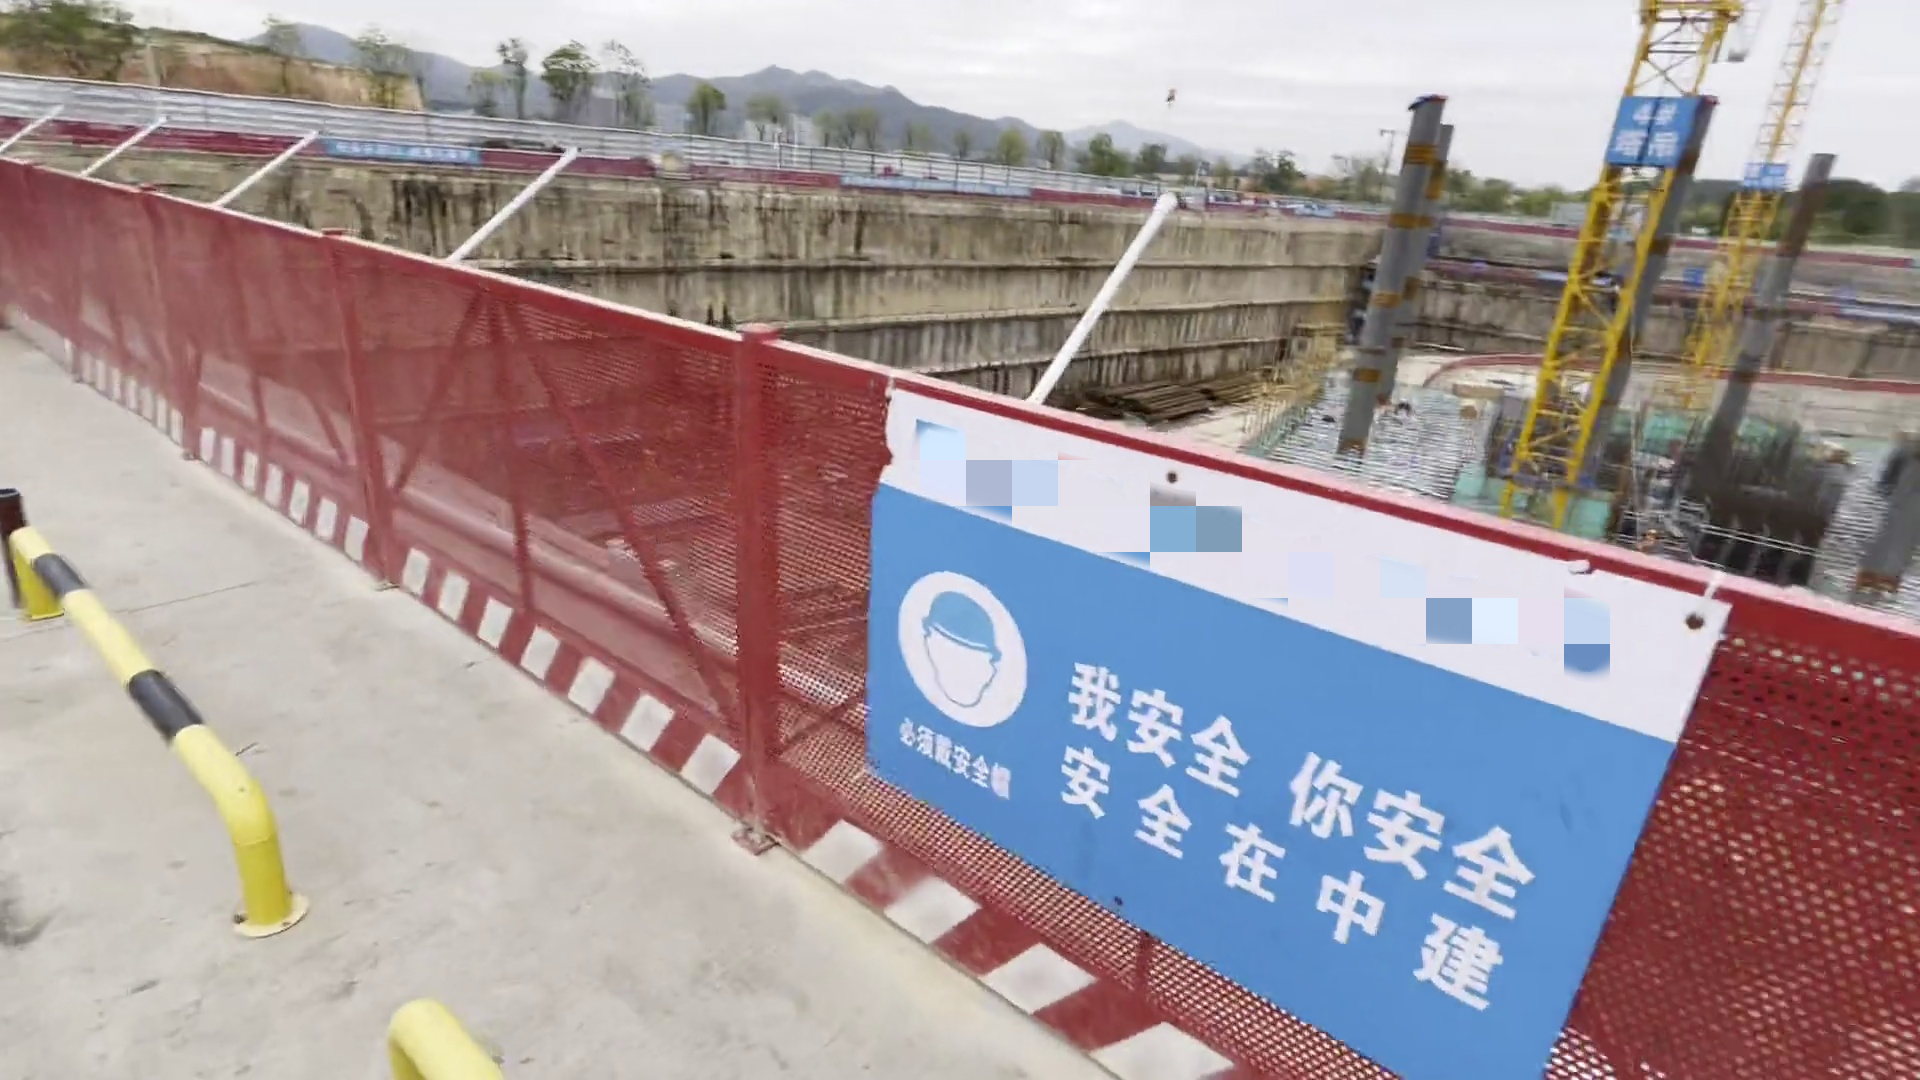fence: (7, 154, 853, 862), (1611, 571, 1920, 1030)
slogan: (880, 553, 1581, 1000)
